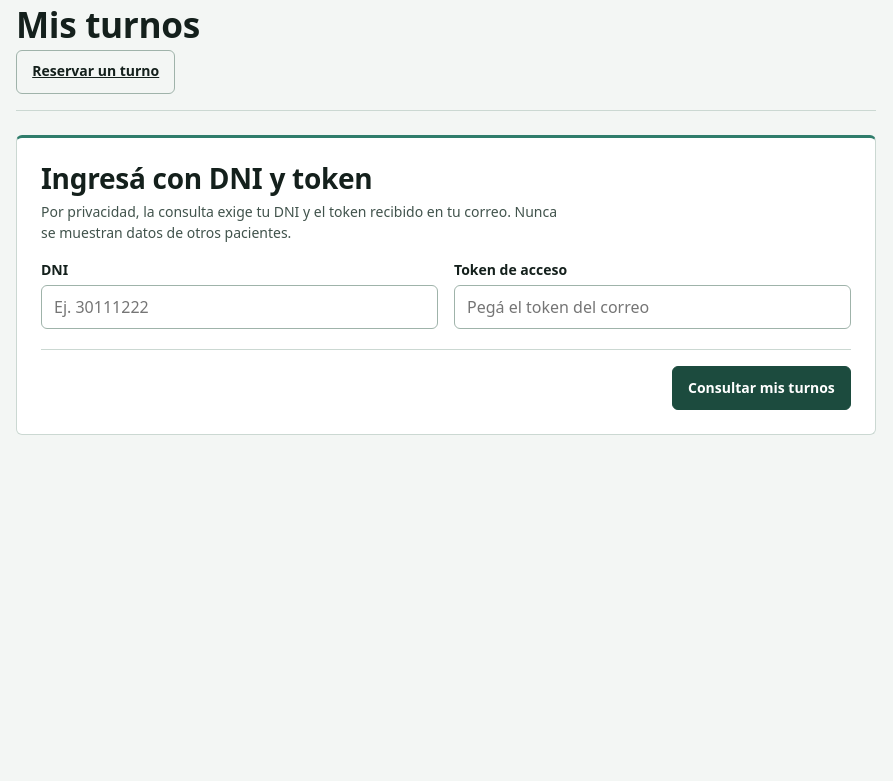
MisTurnosPage › consulta con dni + token, cotiza cancelación antes de confirmar y muestra devolución
Type "30.111.222" into the field labelled "DNI".
click(240, 307); type("30.111.222")  # box x1=41 y1=285 x2=438 y2=329
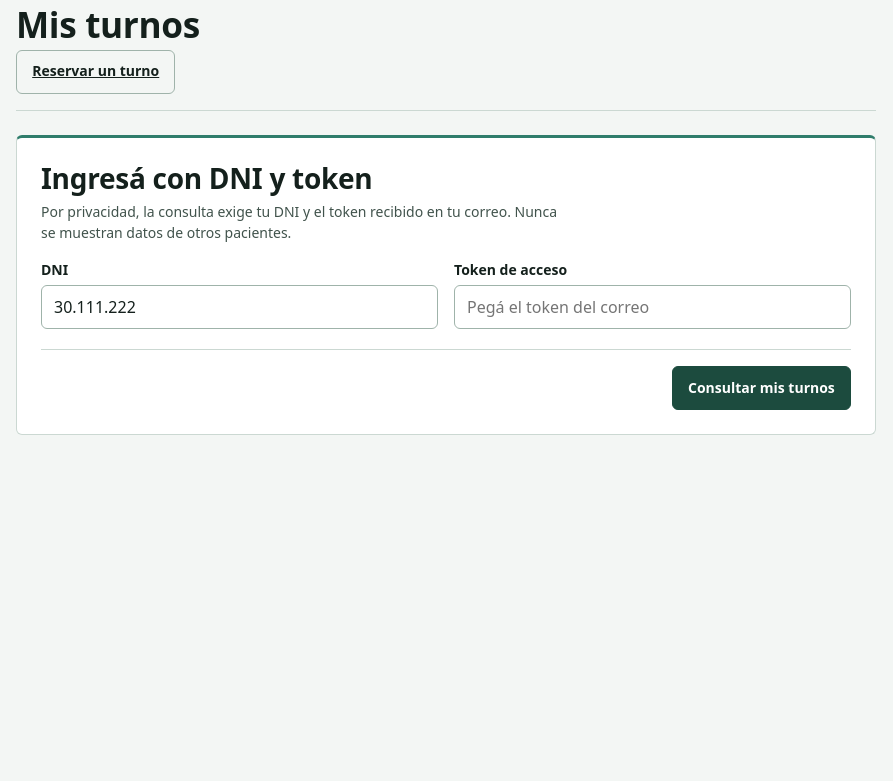
Type "tok_valido" into the field labelled "Token de acceso".
click(652, 307); type("tok_valido")  # box x1=454 y1=285 x2=851 y2=329
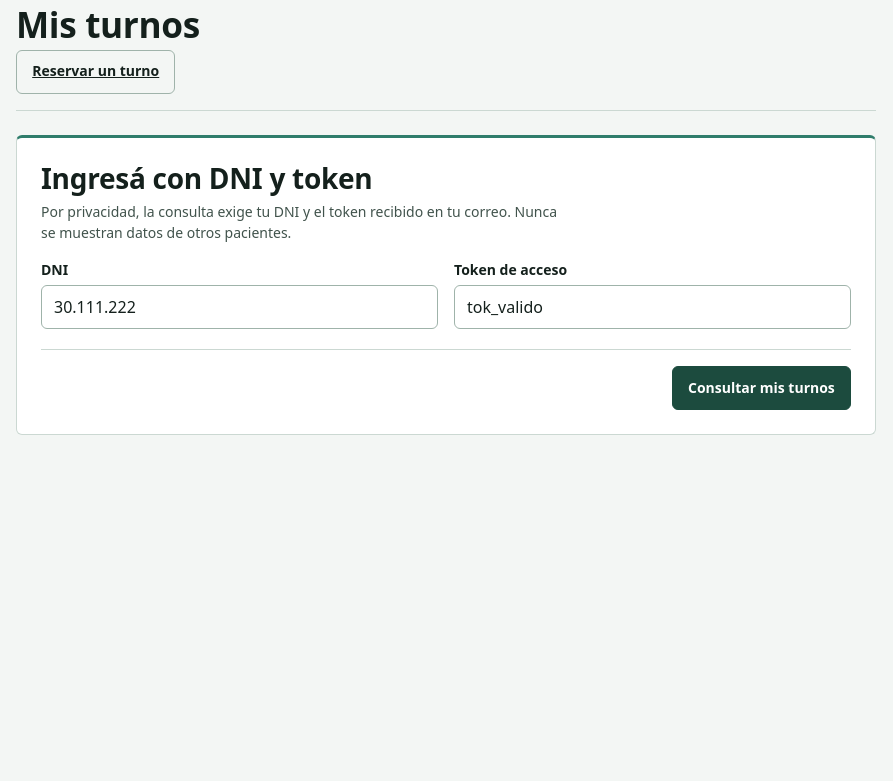
Click the button "Consultar mis turnos".
click(761, 388)  # box x1=672 y1=366 x2=851 y2=410
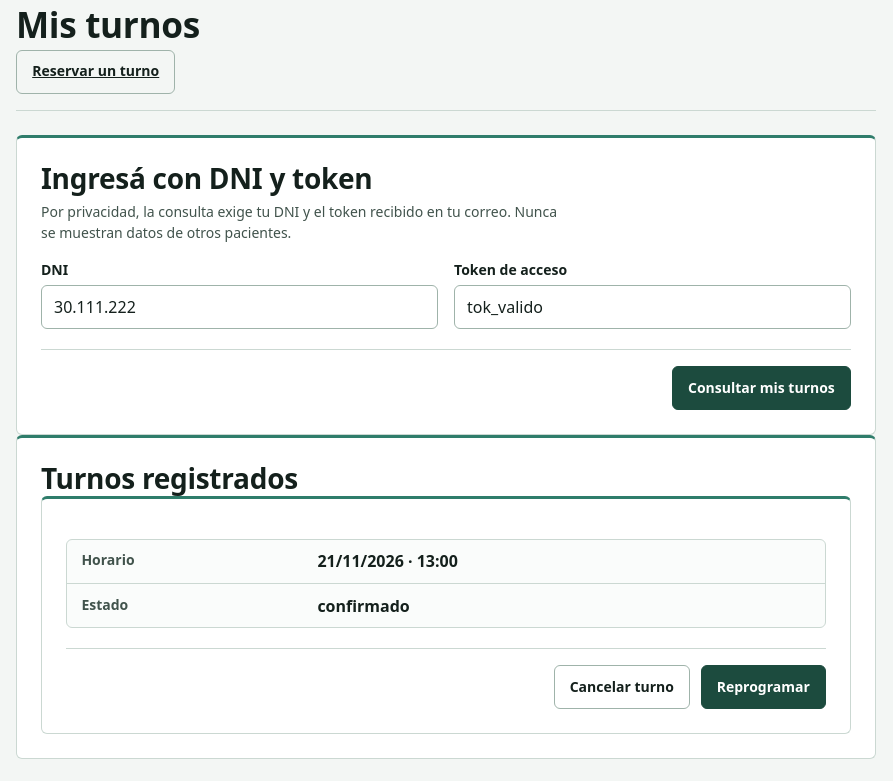
Now the text "confirmado" is shown, box x1=317 y1=595 x2=410 y2=617
Click the button "Cancelar turno".
click(622, 687)  # box x1=554 y1=665 x2=690 y2=709
(page scrolled)
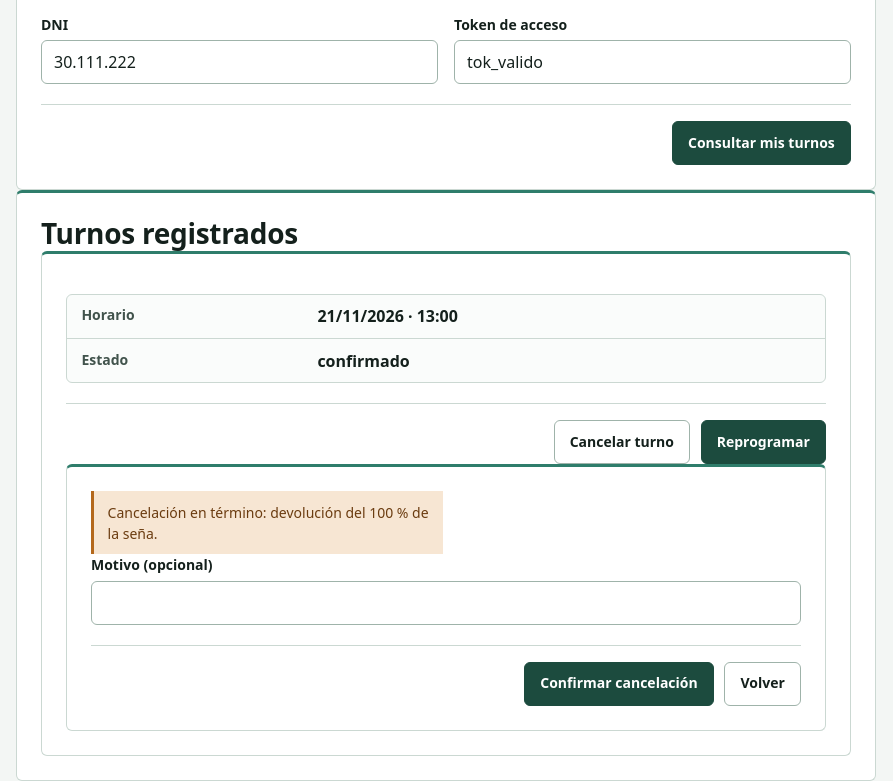
Now the text "Cancelación en término: devolución del 100 % de la seña." is shown, box x1=91 y1=491 x2=443 y2=554
Type "Viaje" into the field labelled "Motivo (opcional)".
click(446, 603); type("Viaje")  # box x1=91 y1=581 x2=801 y2=625
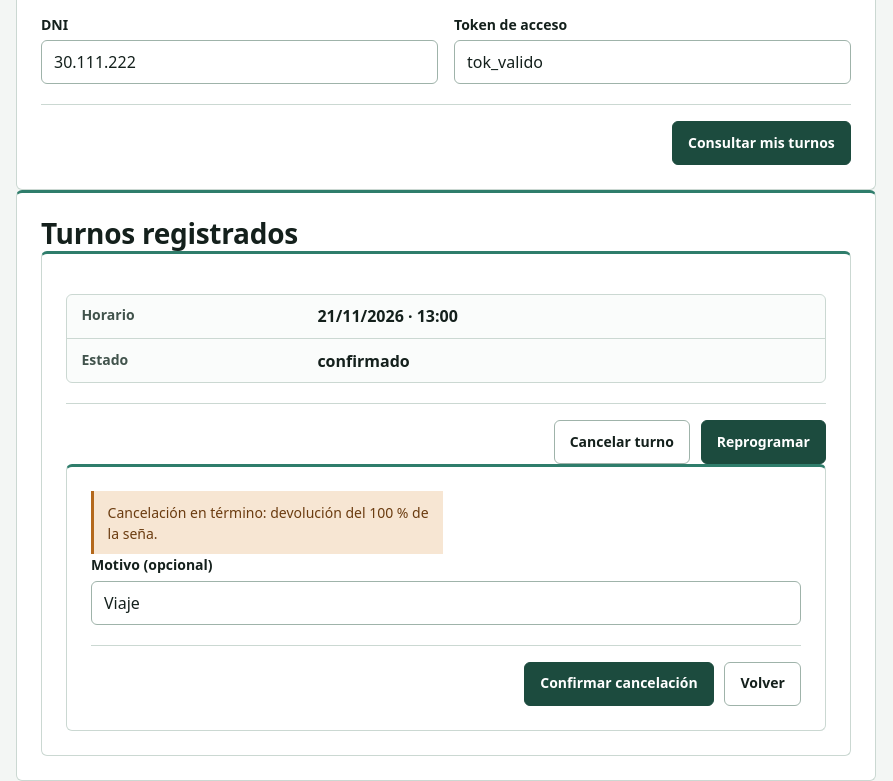
Click the button "Confirmar cancelación".
click(619, 684)  # box x1=524 y1=662 x2=714 y2=706
(page scrolled)
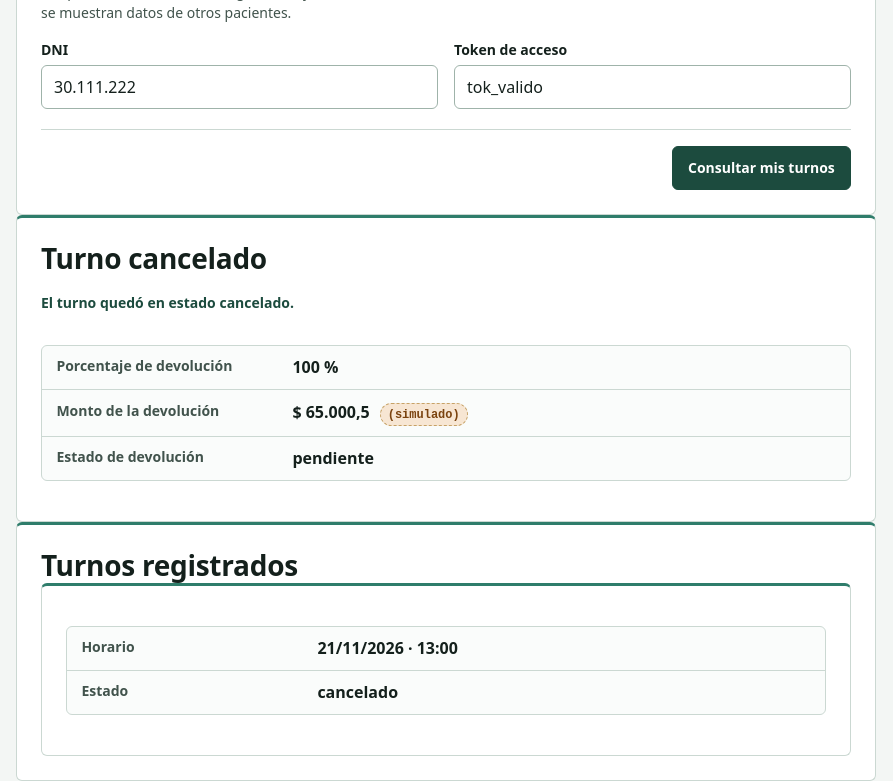
Now the heading "Turno cancelado" is shown, box x1=41 y1=239 x2=267 y2=277
Now the text "cancelado" next to "El turno quedó en estado" is shown, box x1=219 y1=293 x2=290 y2=312
Now the text "$ 65.000,5 (simulado)" is shown, box x1=292 y1=401 x2=468 y2=426
